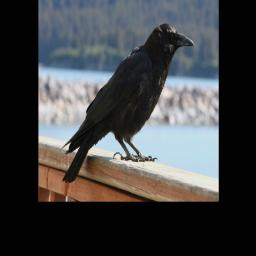Crow: (61, 22, 195, 184)
